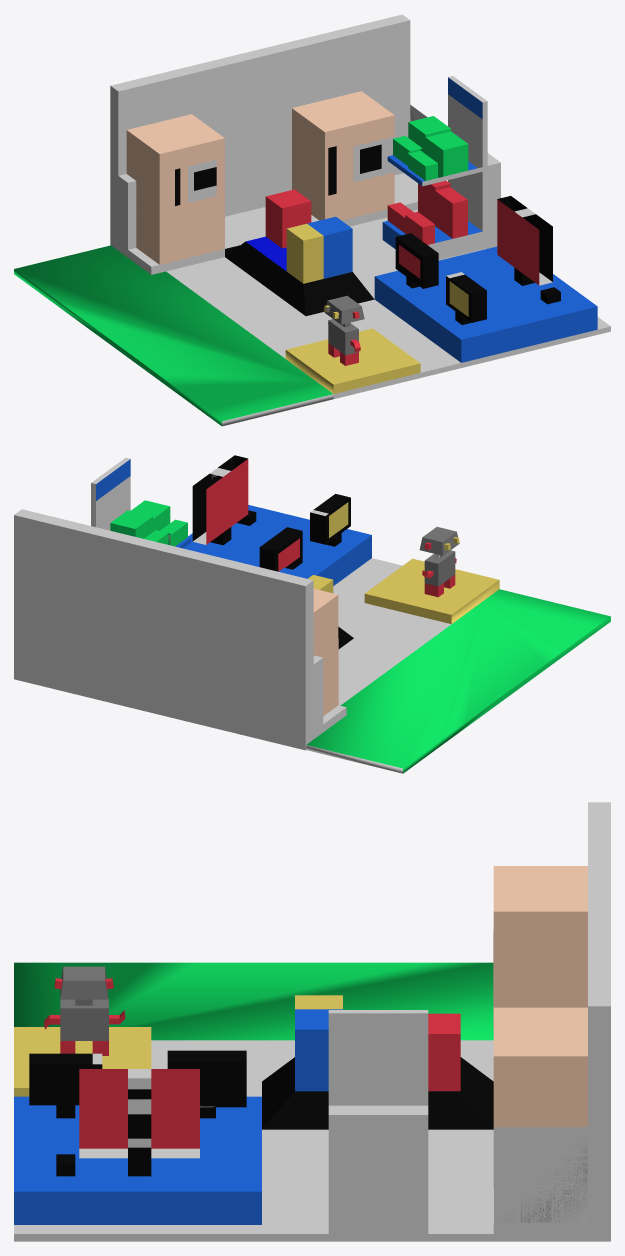
Rendered from electronic shop.fbx.
3 renders of one model, top to bottom at view 1: azimuth 30°, elevation 25°; view 2: azimuth 150°, elevation 25°; view 3: azimuth 270°, elevation 25°, orthographic. The views are drawn at different scales.
Visible parts, largest first — view 1: electronic shop; view 2: electronic shop; view 3: electronic shop.
Boxes of the visible parts, bbox=[...] form: electronic shop: bbox=[14, 14, 610, 426]; electronic shop: bbox=[14, 455, 610, 773]; electronic shop: bbox=[14, 802, 610, 1241].
Size of the model in its own units: 1293 by 522 by 1201.
